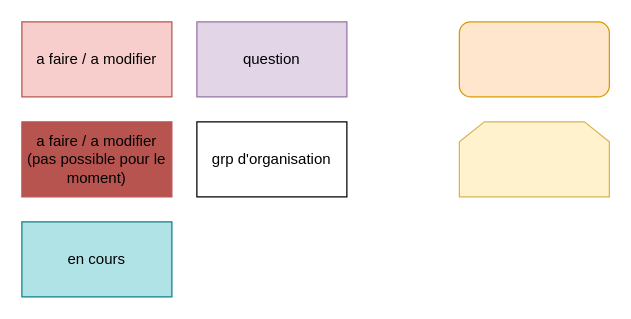
This 631x319 diagram has some shape labels left out. The shapes that lost their labels are listed below. From the top down, each one's centre as x and y in pixels, then its label:
the point at 533,59: methode / fct
the point at 533,159: boucle
